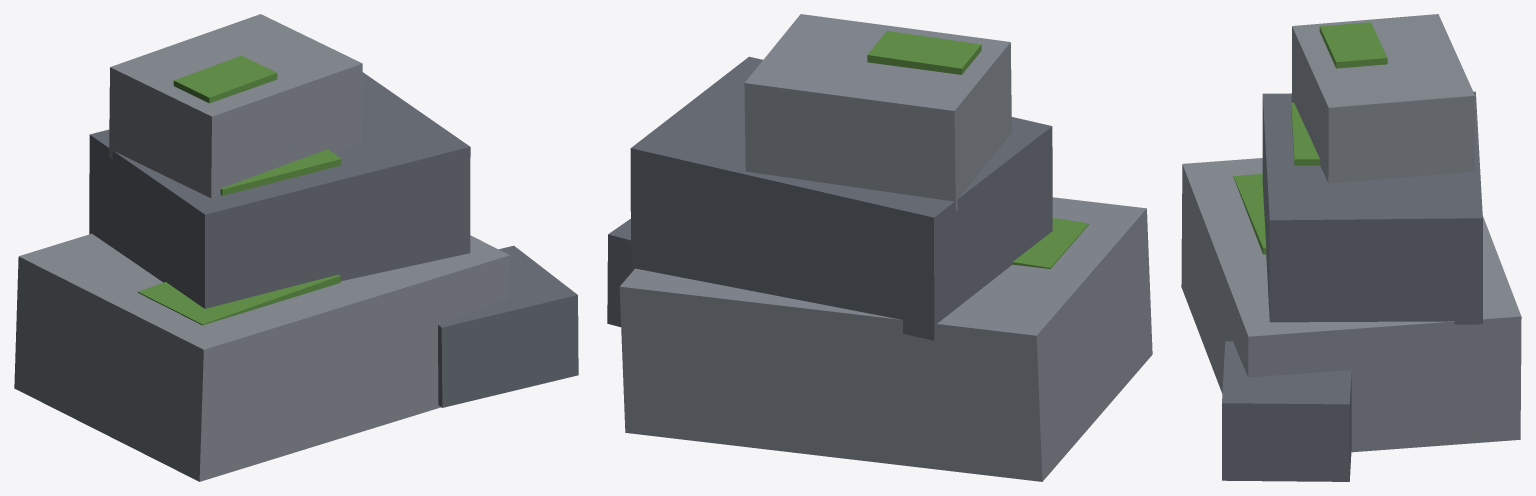
The model's file is C04_cliff.obj.
3 renders of one model, left to right at view 1: azimuth 30°, elevation 25°; view 2: azimuth 150°, elevation 25°; view 3: azimuth 270°, elevation 25°, orthographic. The views are drawn at different scales.
Visible parts, largest first — view 1: C04_cliff; view 2: C04_cliff; view 3: C04_cliff.
Boxes of the visible parts, x1,y1,x2,y2 form: C04_cliff: (14, 14, 578, 481); C04_cliff: (607, 14, 1152, 481); C04_cliff: (1181, 14, 1521, 481).
Bounding box in the file's own units: 4.64 × 3.23 × 3.19.
